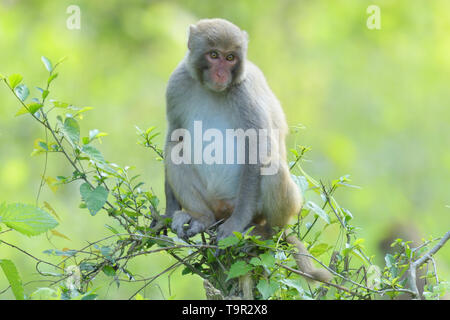monkey: (142, 9, 313, 277)
